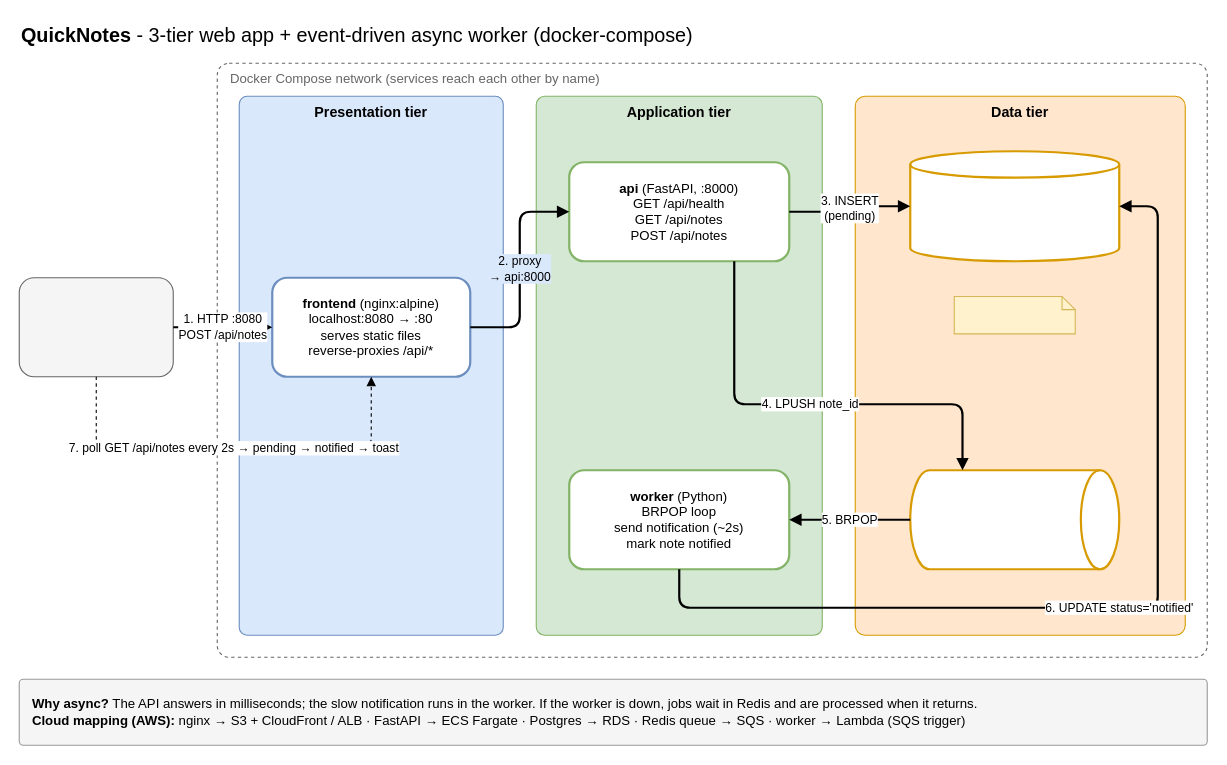
Image size: 1227x765. Some labels were removed from this diagram. Each missing label, with the centre of its shape:
db (PostgreSQL 16) table: notes status: pending → notified: point 1014,206
redis (Redis 7) list: notes_queue = message queue: point 1014,519
User's browser index.html + app.js polls every 2s shows toast: point 95,327
volume: pgdata: point 1014,314
